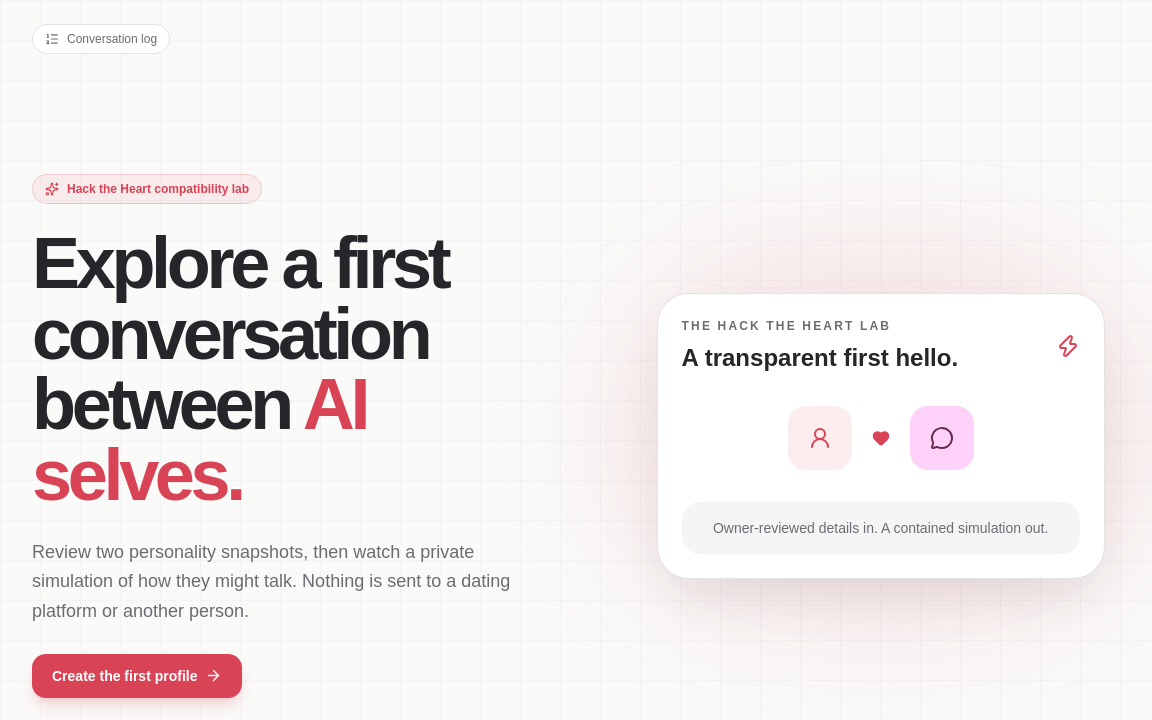
lets Person Two edit and save a selected stored profile
Later steps or results of the test are not shown.
What coordinates should you click on to do the following:
click the button "Create the first profile"
I would click on:
 (137, 676)
Its box is [32,654,242,698].
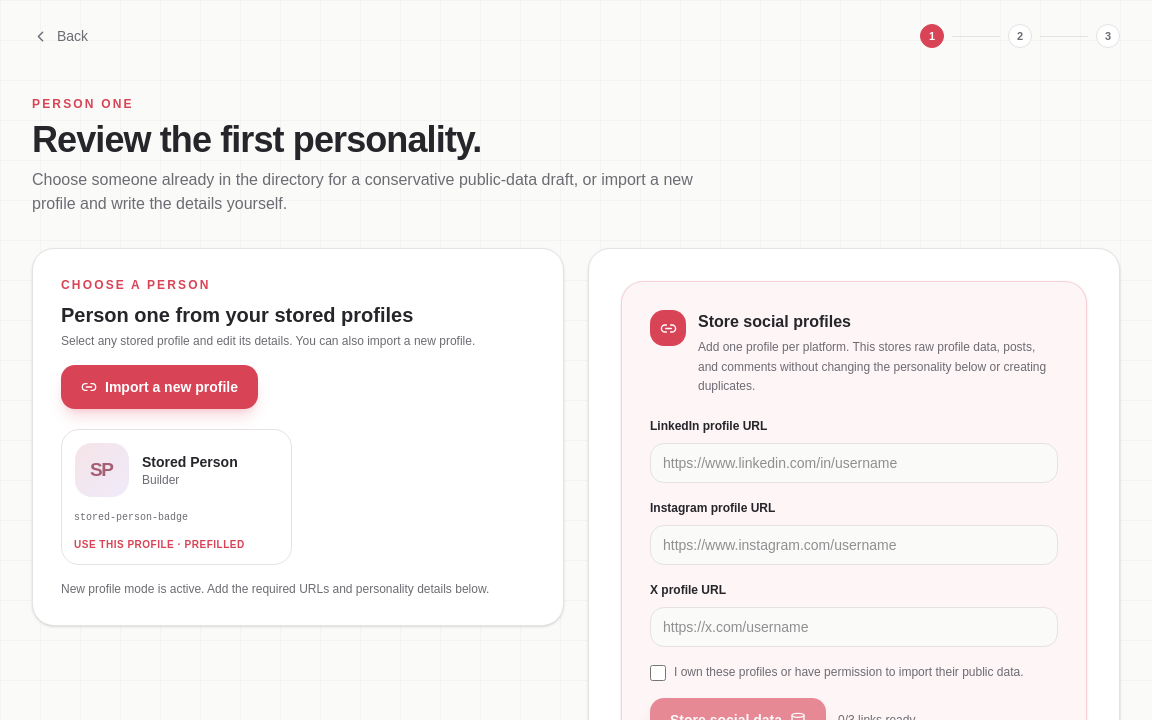
Expected: the text "Stored Person" is shown, [142,452,238,472]
What coordinates should you click on to do the following:
click the button that starts with "Stored Person"
I would click on:
 (176, 497)
Its box is [61,429,292,565].
(page scrolled)
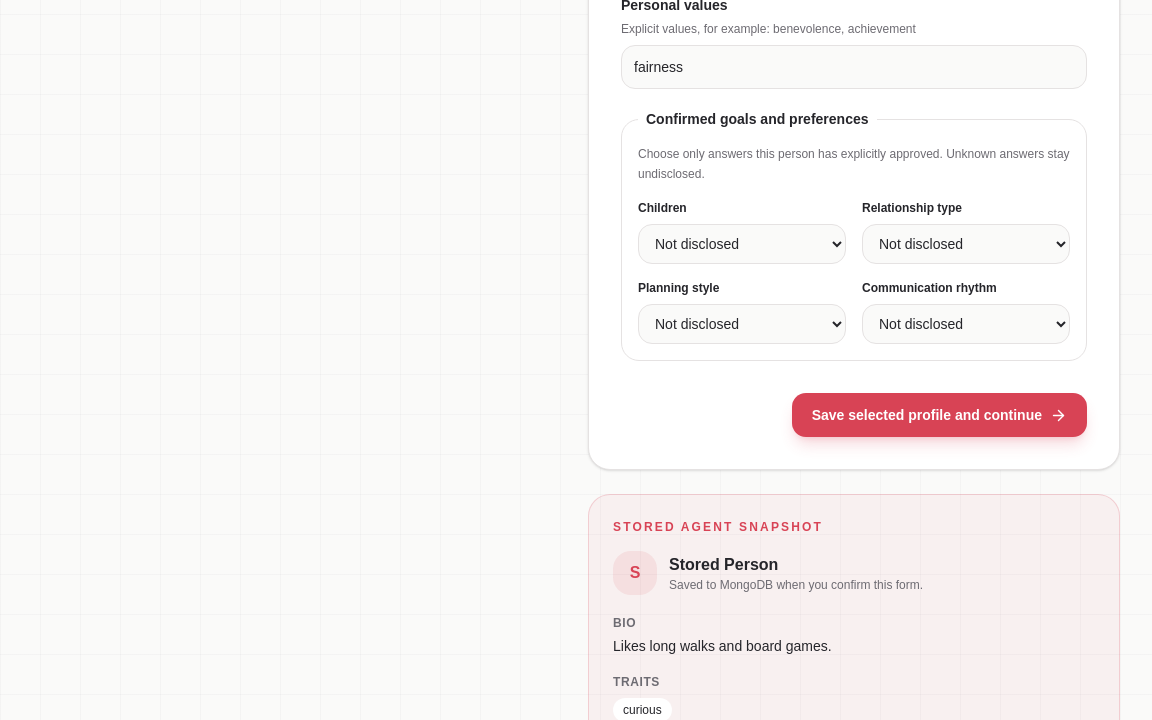
What coordinates should you click on to do the following:
click the button "Save selected profile and continue"
I would click on:
 (939, 415)
Its box is [792,393,1087,437].
(page scrolled)
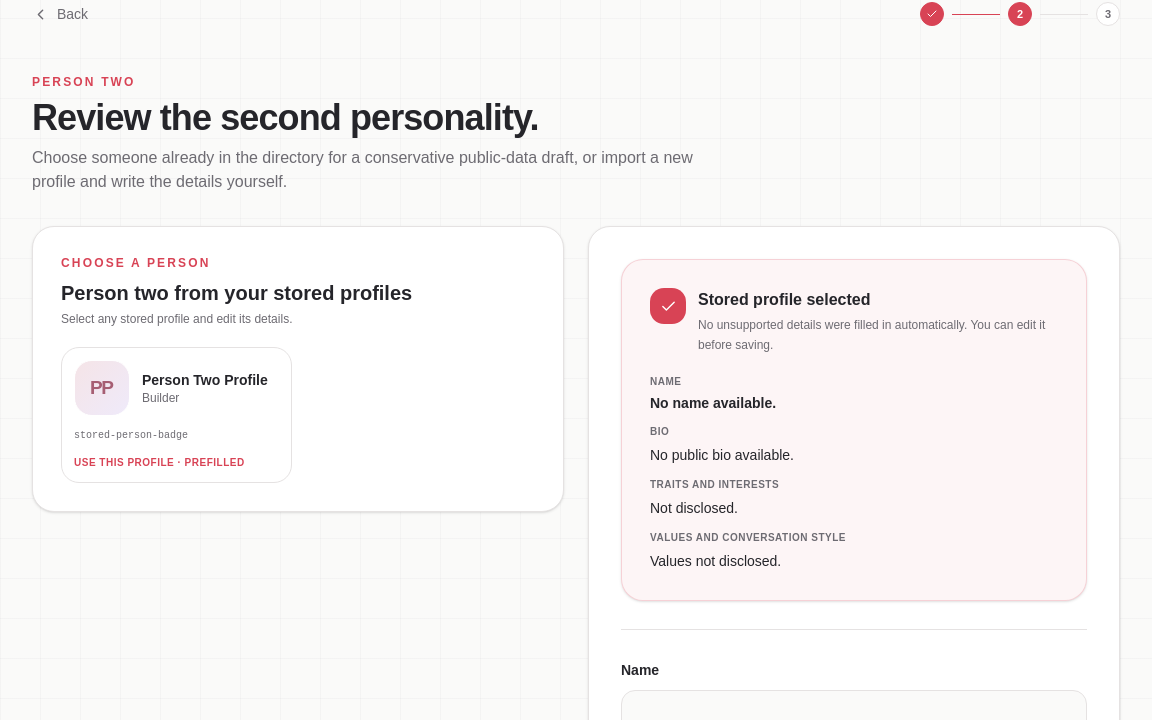
Expected: the heading "Person two from your stored profiles" is shown, [61,279,412,307]
Expected: the text "Person Two Profile" is shown, [142,370,268,390]
What coordinates should you click on to do the following:
click the button that starts with "Person Two Profile"
I would click on:
 (176, 415)
Its box is [61,347,292,483].
(page scrolled)
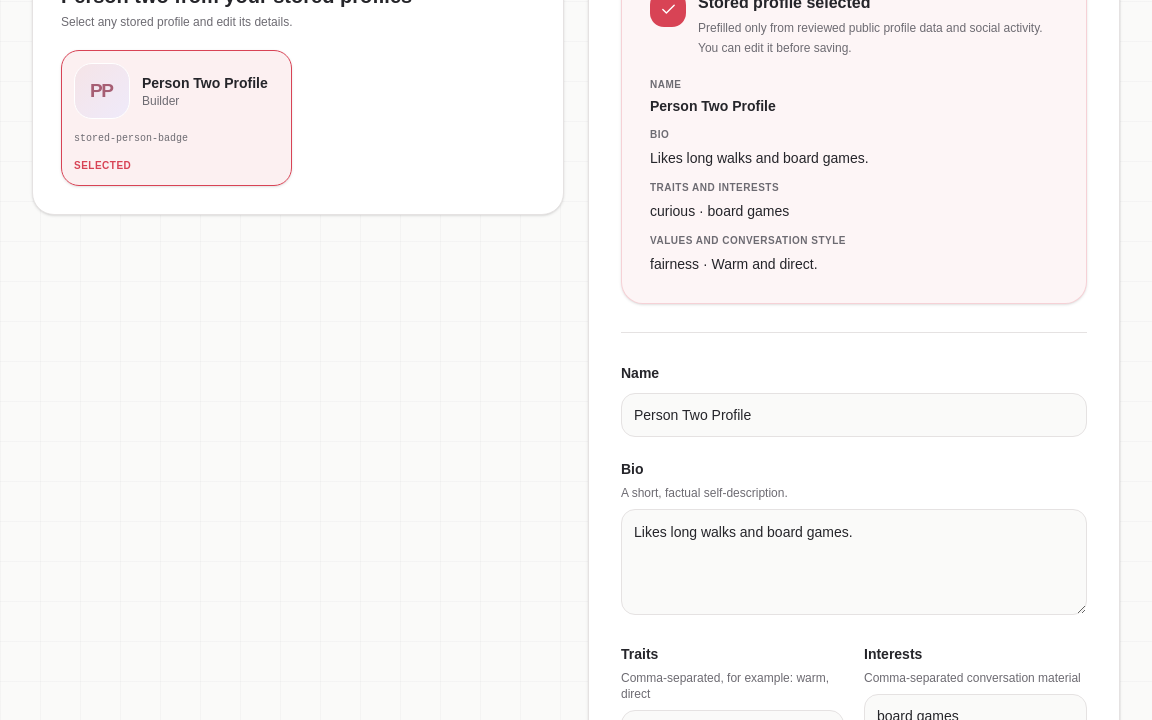
Expected: the field labelled "Name" is enabled, [621,393,1087,437]
